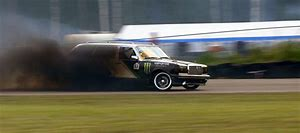smoke: (1, 33, 118, 91)
